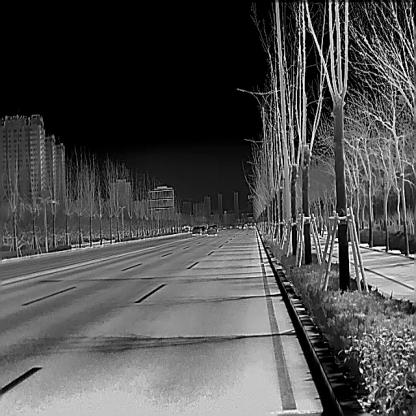car: (192, 225, 201, 236), (206, 225, 216, 234), (200, 225, 206, 235)
